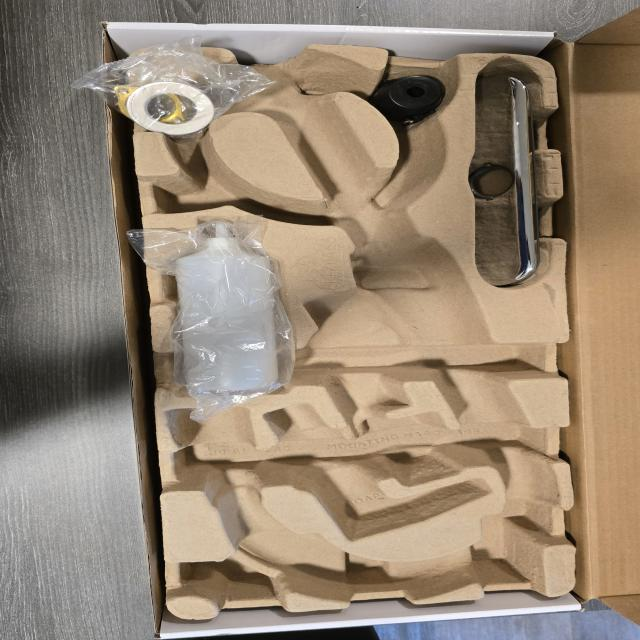1m: (168, 51, 556, 602)
2m: (261, 402, 491, 540)
3: (173, 220, 281, 394)
4: (469, 75, 544, 286)
5: (370, 76, 444, 126)
6: (69, 35, 280, 141)
7m: (149, 150, 298, 223)
